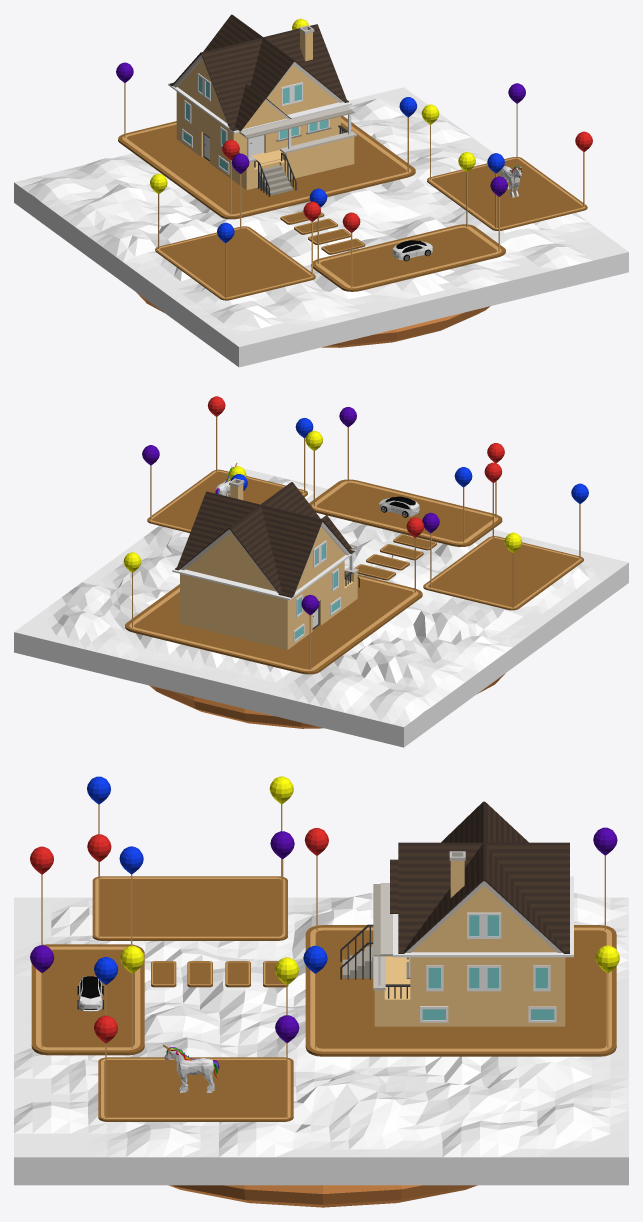
3 renders of one model, top to bottom at view 1: azimuth 30°, elevation 25°; view 2: azimuth 150°, elevation 25°; view 3: azimuth 270°, elevation 25°, orthographic. The views are drawn at different scales.
Visible parts, largest first — view 1: Cube.013, Cube.235, UNDERGROUND_PIZZA, VEHICLES_TESLA; view 2: Cube.013, Cube.235, UNDERGROUND_PIZZA, VEHICLES_TESLA; view 3: Cube.013, Cube.235, UNDERGROUND_PIZZA, ANIMAL_UNICORNIO, VEHICLES_TESLA.
Boxes of the visible parts, x1,y1,x2,y2 form: Cube.013: (14, 18, 628, 367); Cube.235: (168, 14, 356, 196); UNDERGROUND_PIZZA: (136, 292, 490, 347); VEHICLES_TESLA: (392, 240, 432, 261); Cube.013: (14, 396, 628, 747); Cube.235: (172, 478, 359, 649); UNDERGROUND_PIZZA: (149, 673, 505, 728); VEHICLES_TESLA: (379, 496, 419, 517); Cube.013: (14, 776, 628, 1185); Cube.235: (340, 801, 573, 1026); UNDERGROUND_PIZZA: (169, 1185, 477, 1207); ANIMAL_UNICORNIO: (163, 1044, 219, 1092); VEHICLES_TESLA: (77, 976, 103, 1011).
Bounding box in the file's own units: 4000 × 1899 × 4000.
41 materials, 1 textured.
